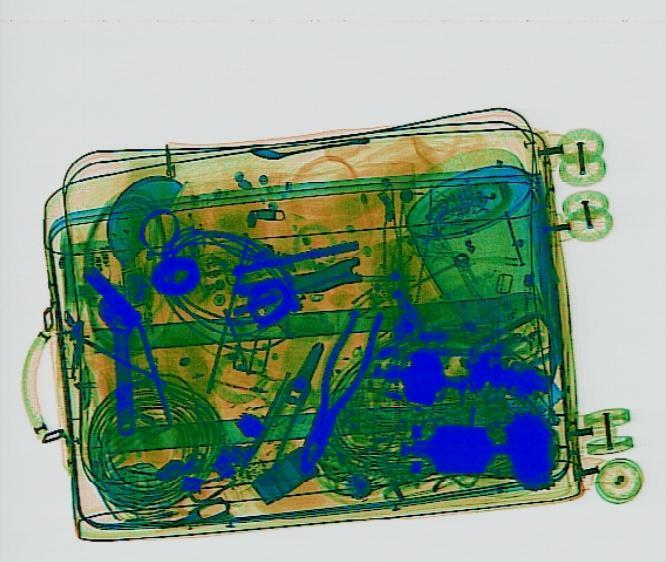Pliers: (282, 305, 390, 475), (238, 336, 336, 476)
Wrench: (94, 293, 146, 435)
